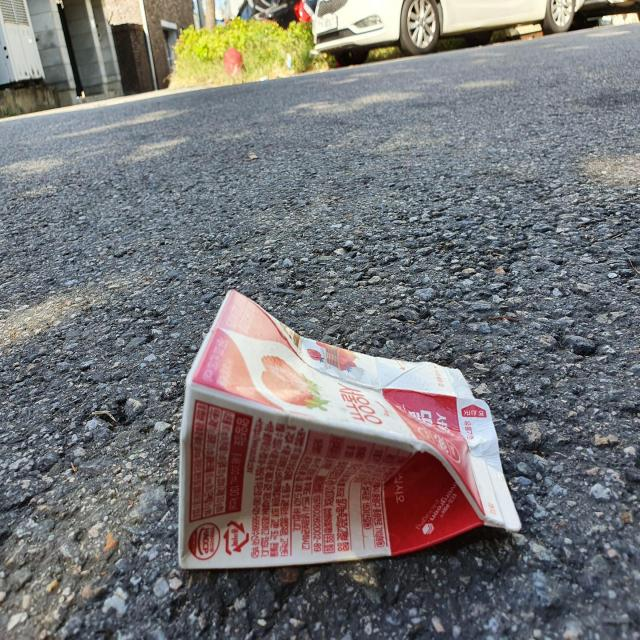paperpack: (178, 289, 522, 569)
